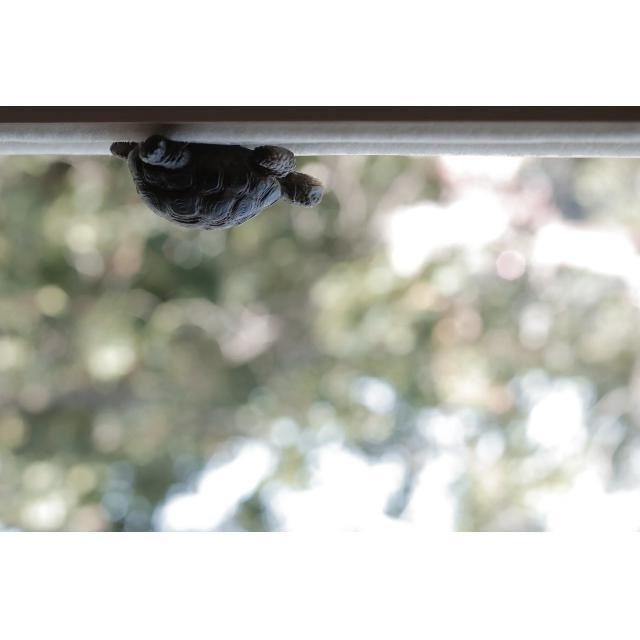turtle: (109, 132, 325, 232)
